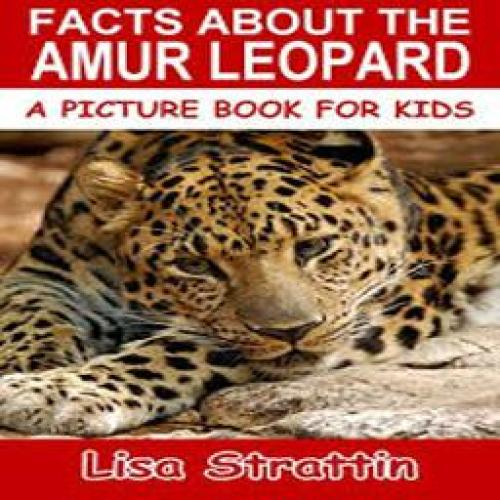amur_leopard-endangered: (0, 134, 500, 436)
